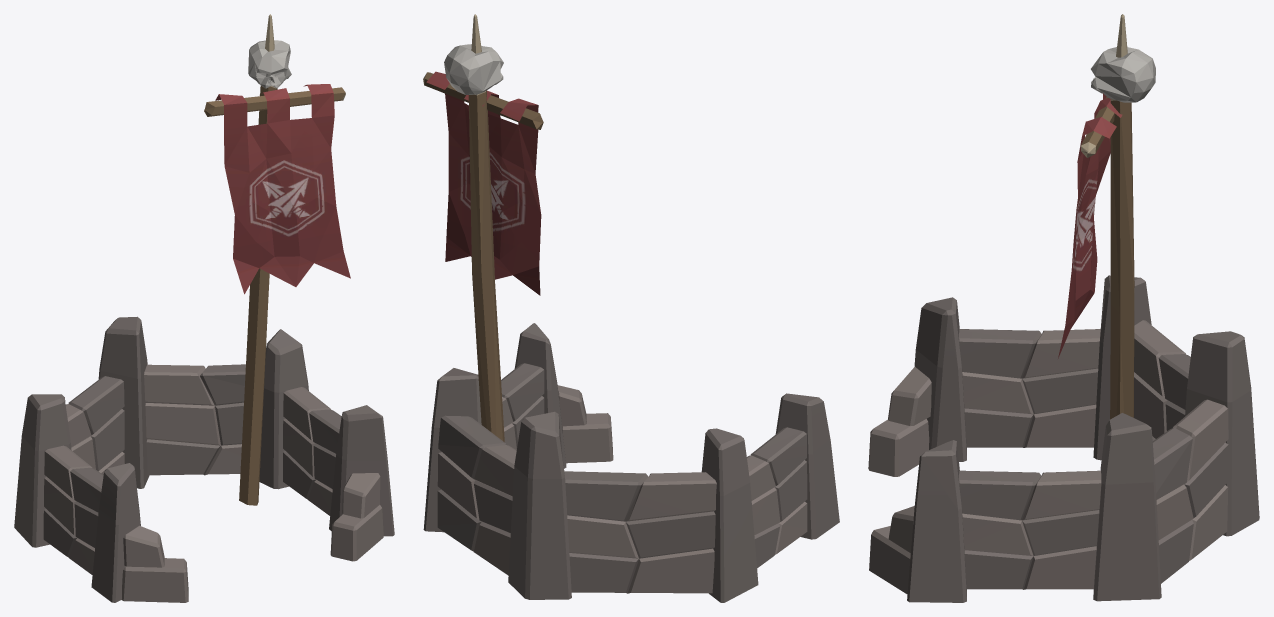
The model's file is MMEnemyCamp_undead.fbx.
3 renders of one model, left to right at view 1: azimuth 30°, elevation 25°; view 2: azimuth 150°, elevation 25°; view 3: azimuth 270°, elevation 25°, orthographic. The views are drawn at different scales.
Parts seen in each view (by area): view 1: MMEnemyCamp_undead; view 2: MMEnemyCamp_undead; view 3: MMEnemyCamp_undead.
Part boxes in pixels (box(x1,y1,x2,y2)): MMEnemyCamp_undead: box(14, 14, 394, 602); MMEnemyCamp_undead: box(423, 14, 839, 602); MMEnemyCamp_undead: box(868, 14, 1259, 602).
Size of the model in its own units: 2.94 by 4.39 by 2.64.
2 materials, 2 textured.
